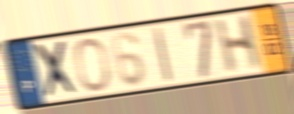6: (111, 30, 148, 89)
7: (179, 17, 214, 81)
H: (213, 12, 263, 77)
I: (152, 24, 175, 84)
O: (72, 36, 112, 93)
X: (30, 38, 82, 101)
